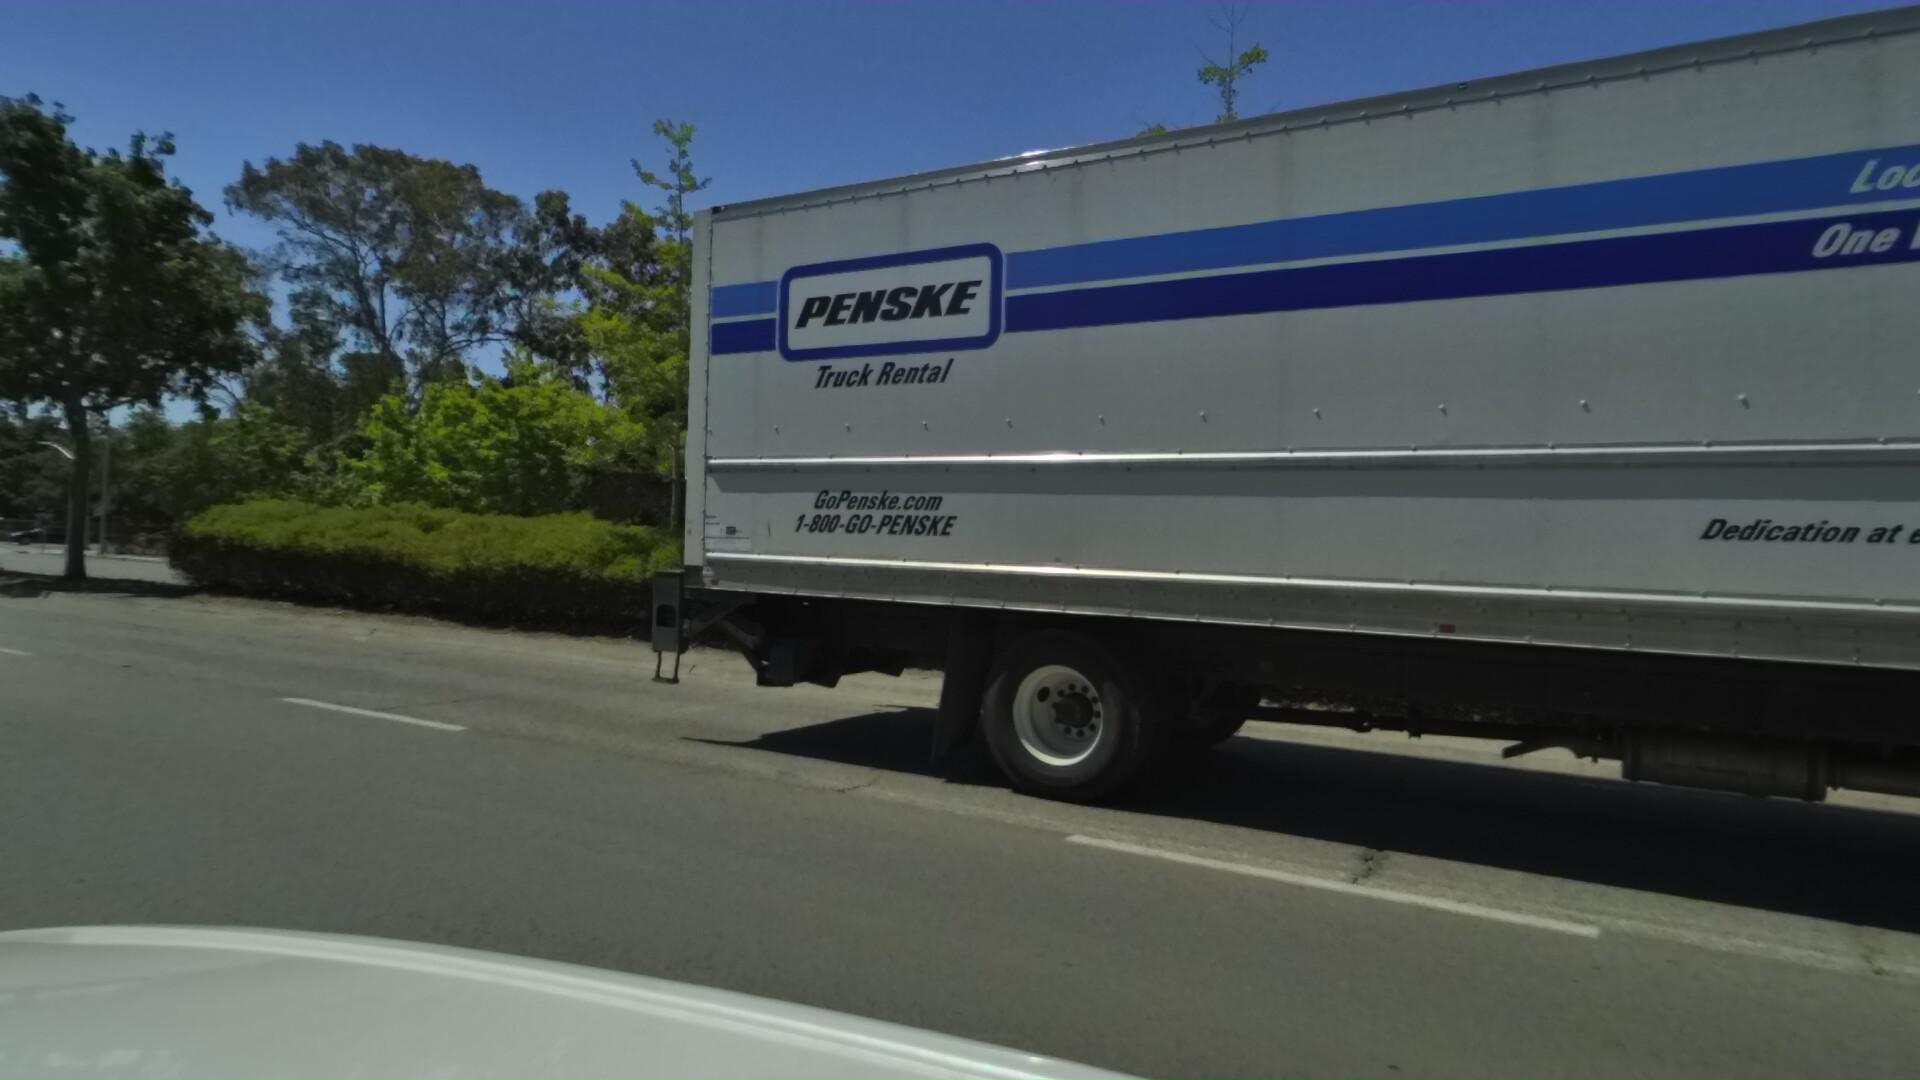car: (0, 480, 12, 709)
truck: (611, 0, 1920, 1080)
